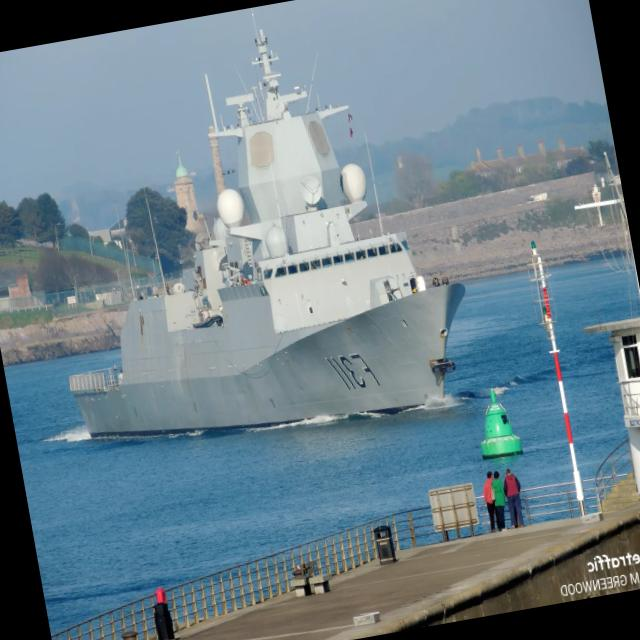Military: (69, 31, 464, 436)
